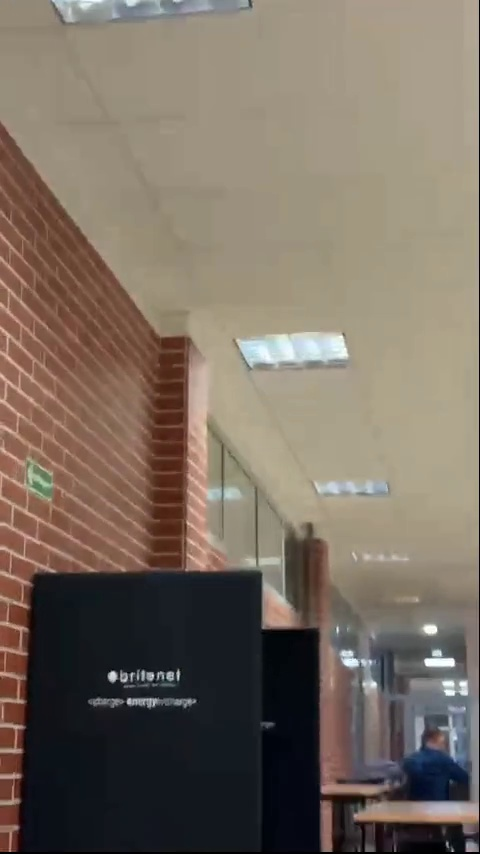no vest: (401, 728, 458, 809)
